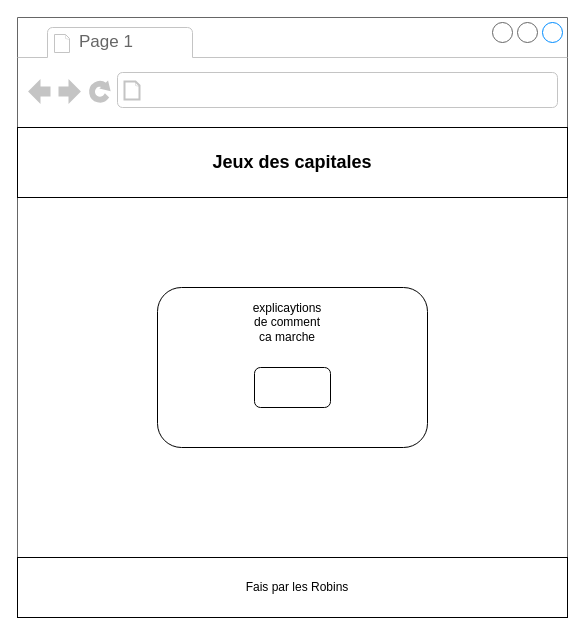
The diagram is 585 pixels wide and 635 high, and some of its shapes have lost their labels. The box of each missing label's shape, as (x1, y1, x2, y2) in pixels:
https://www.draw.io: (146, 76, 398, 104)
jouer: (254, 366, 330, 408)
